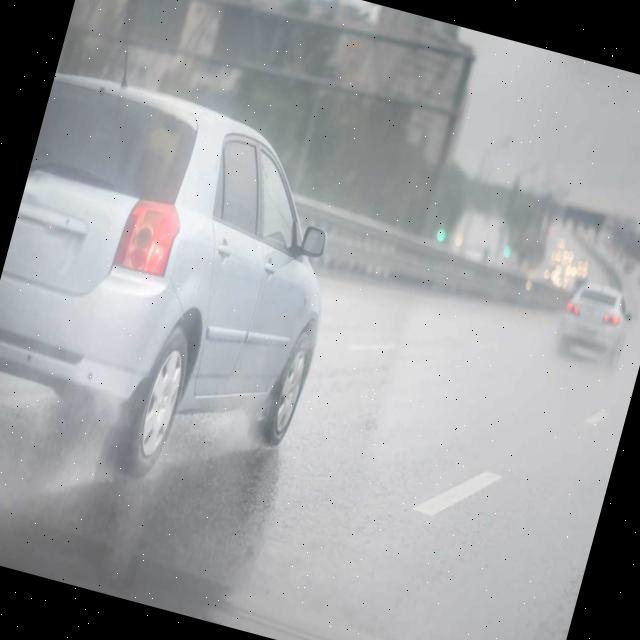car: (0, 62, 374, 504), (552, 278, 634, 368)
